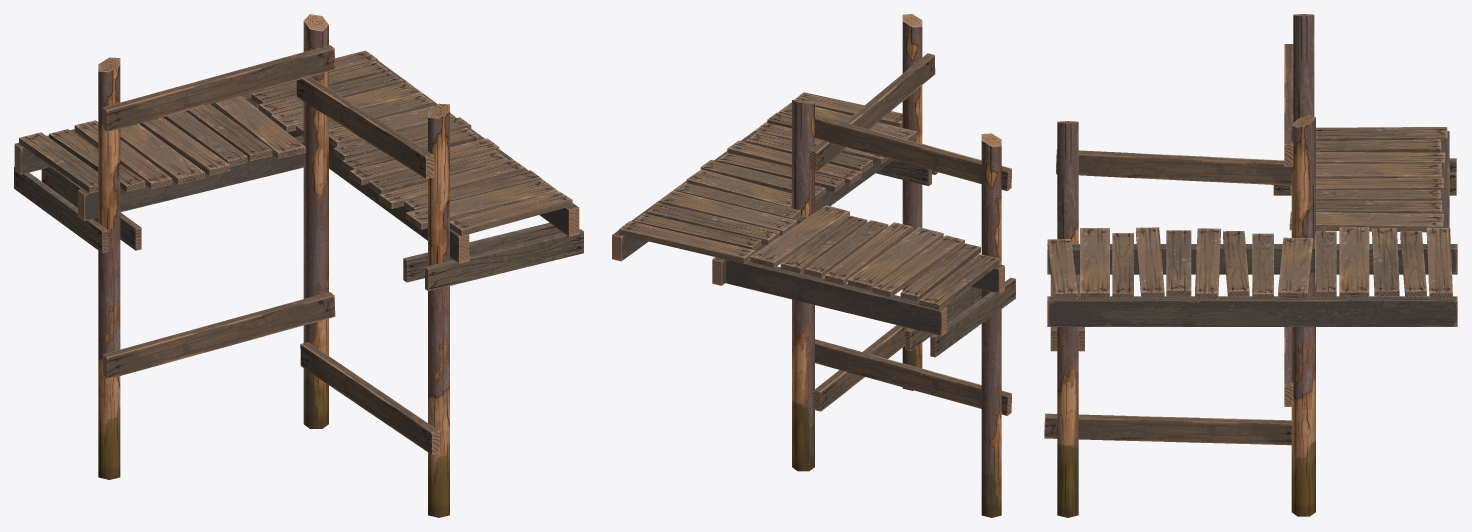
File: fenceWalk_corner.fbx
The picture shows the model from 3 angles, left to right: view 1: azimuth 30°, elevation 25°; view 2: azimuth 150°, elevation 25°; view 3: azimuth 270°, elevation 25°; orthographic projection. The views are drawn at different scales.
Parts seen in each view (by area): view 1: fenceWalk_corner; view 2: fenceWalk_corner; view 3: fenceWalk_corner.
Boxes of the visible parts, x1,y1,x2,y2 form: fenceWalk_corner: [14, 14, 583, 517]; fenceWalk_corner: [612, 14, 1015, 517]; fenceWalk_corner: [1044, 14, 1457, 517].
Size of the model in its own units: 399 by 433 by 403.
